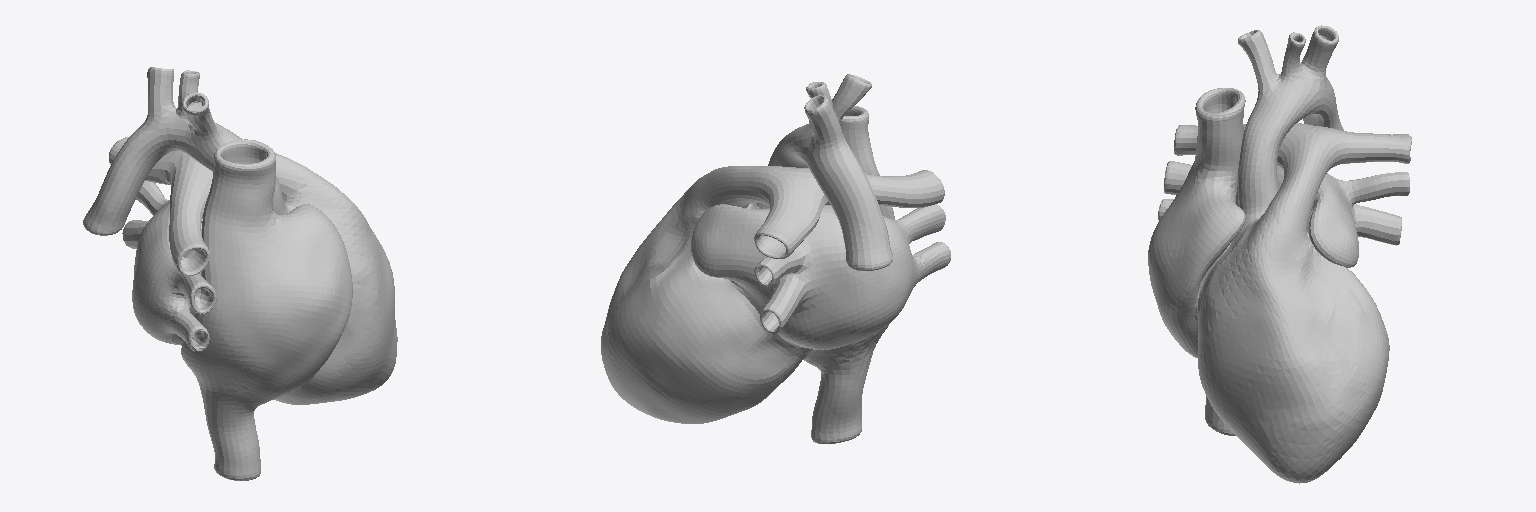
3 views of the same model, side by side, from view 1: azimuth 30°, elevation 25°; view 2: azimuth 150°, elevation 25°; view 3: azimuth 270°, elevation 25° (orthographic).
Parts seen in each view (by area): view 1: HEART_PRO; view 2: HEART_PRO; view 3: HEART_PRO.
Part boxes in pixels (x1,y1,x2,y2): HEART_PRO: (83, 67, 397, 480); HEART_PRO: (601, 74, 950, 443); HEART_PRO: (1148, 25, 1411, 483).
Size of the model in its own units: 651 by 821 by 510.